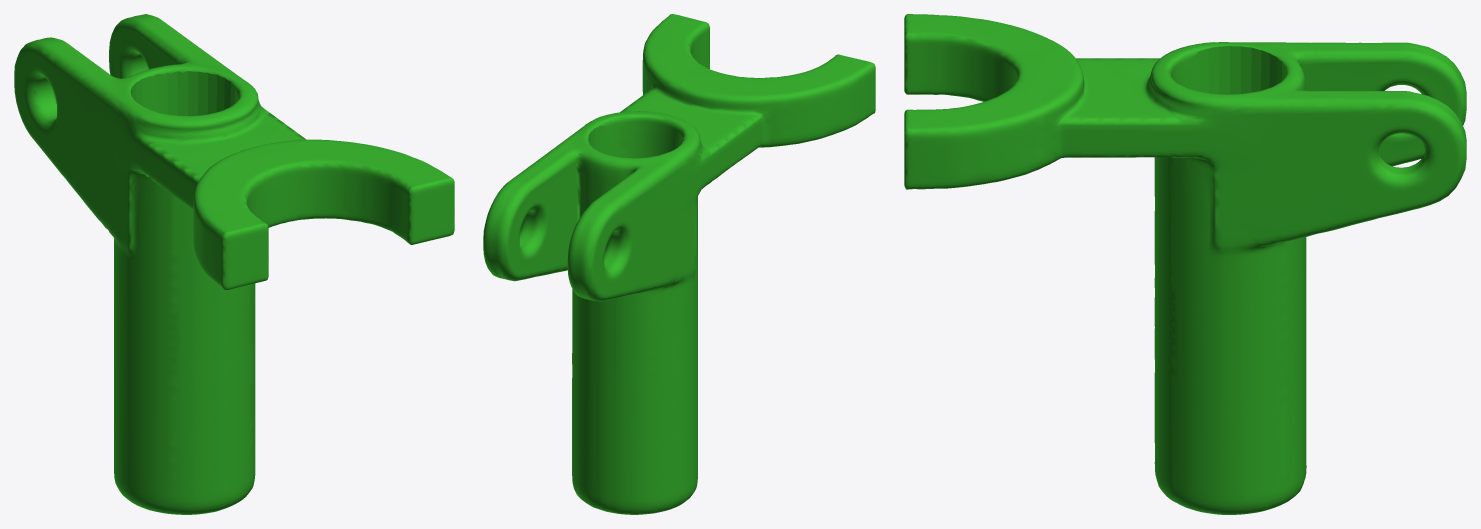
The model's file is alat2.glb.
The picture shows the model from 3 angles, left to right: view 1: azimuth 30°, elevation 25°; view 2: azimuth 150°, elevation 25°; view 3: azimuth 270°, elevation 25°; orthographic projection. The views are drawn at different scales.
Visible parts, largest first — view 1: model; view 2: model; view 3: model.
Boxes of the visible parts, left/top/right/bottom form: model: left=14, top=14, right=454, bottom=514; model: left=483, top=14, right=875, bottom=514; model: left=904, top=14, right=1466, bottom=514.
Bounding box in the file's own units: 5.61 × 9.24 × 11.21.
